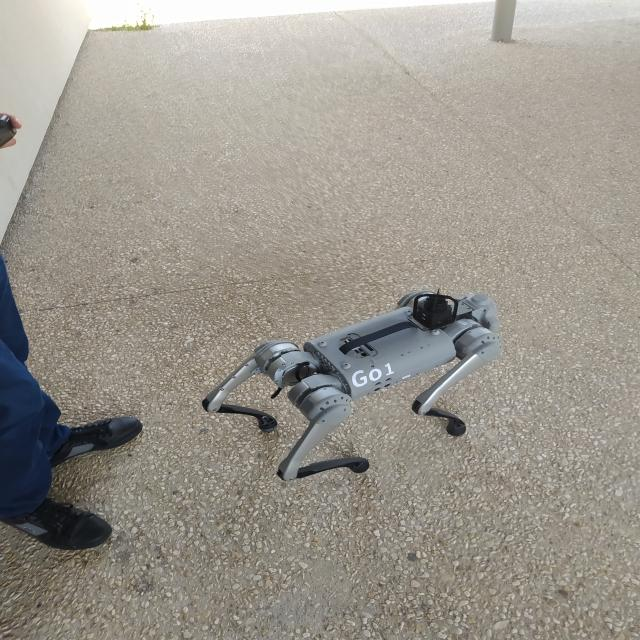unitree-go1-robot: (200, 292, 510, 485)
